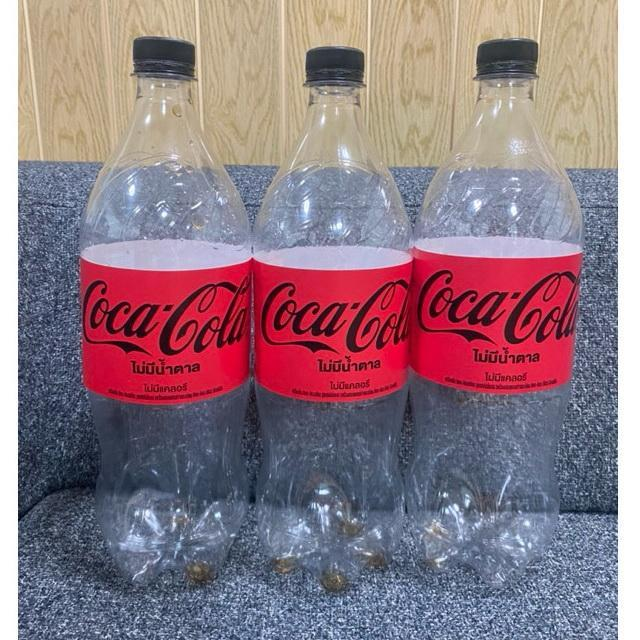PET Bottle: (75, 24, 251, 602), (404, 30, 580, 592), (243, 34, 405, 604)
